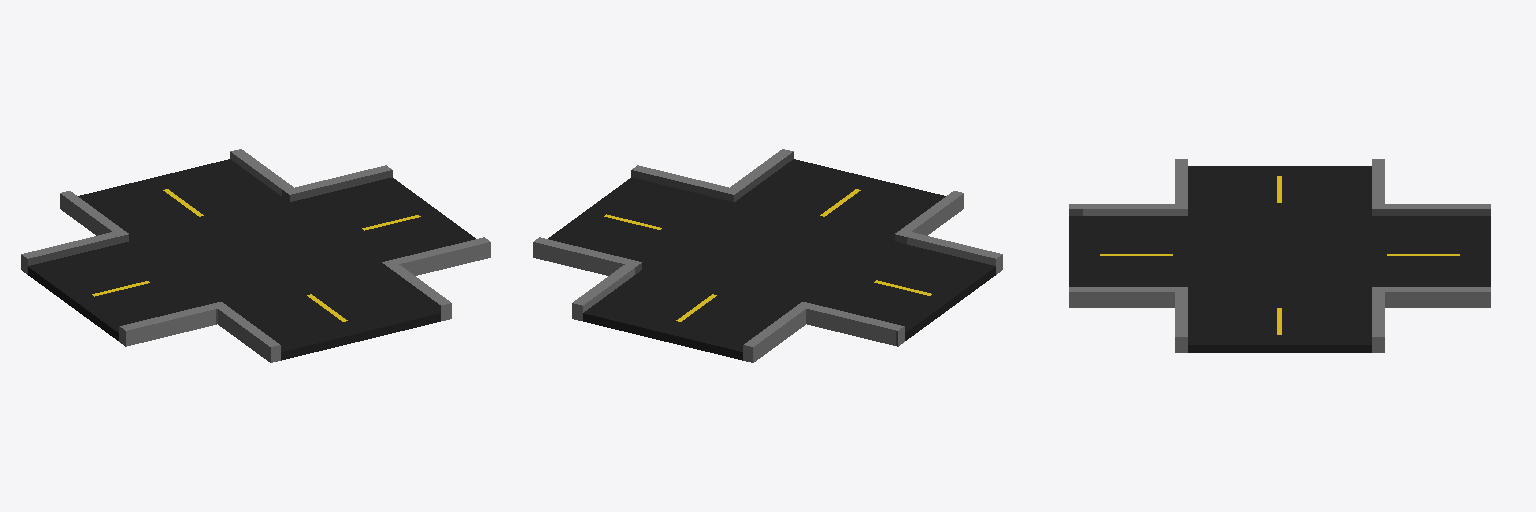
3 renders of one model, left to right at view 1: azimuth 30°, elevation 25°; view 2: azimuth 150°, elevation 25°; view 3: azimuth 270°, elevation 25°, orthographic.
Visible parts, largest first — view 1: cuboid; view 2: cuboid; view 3: cuboid.
Boxes of the visible parts, x1=… form: cuboid: x1=21, y1=149, x2=490, y2=362; cuboid: x1=533, y1=149, x2=1002, y2=362; cuboid: x1=1069, y1=159, x2=1490, y2=352.
Bounding box in the file's own units: 22.62 × 0.9375 × 22.62.
Materials: 1 (1 with a texture image).